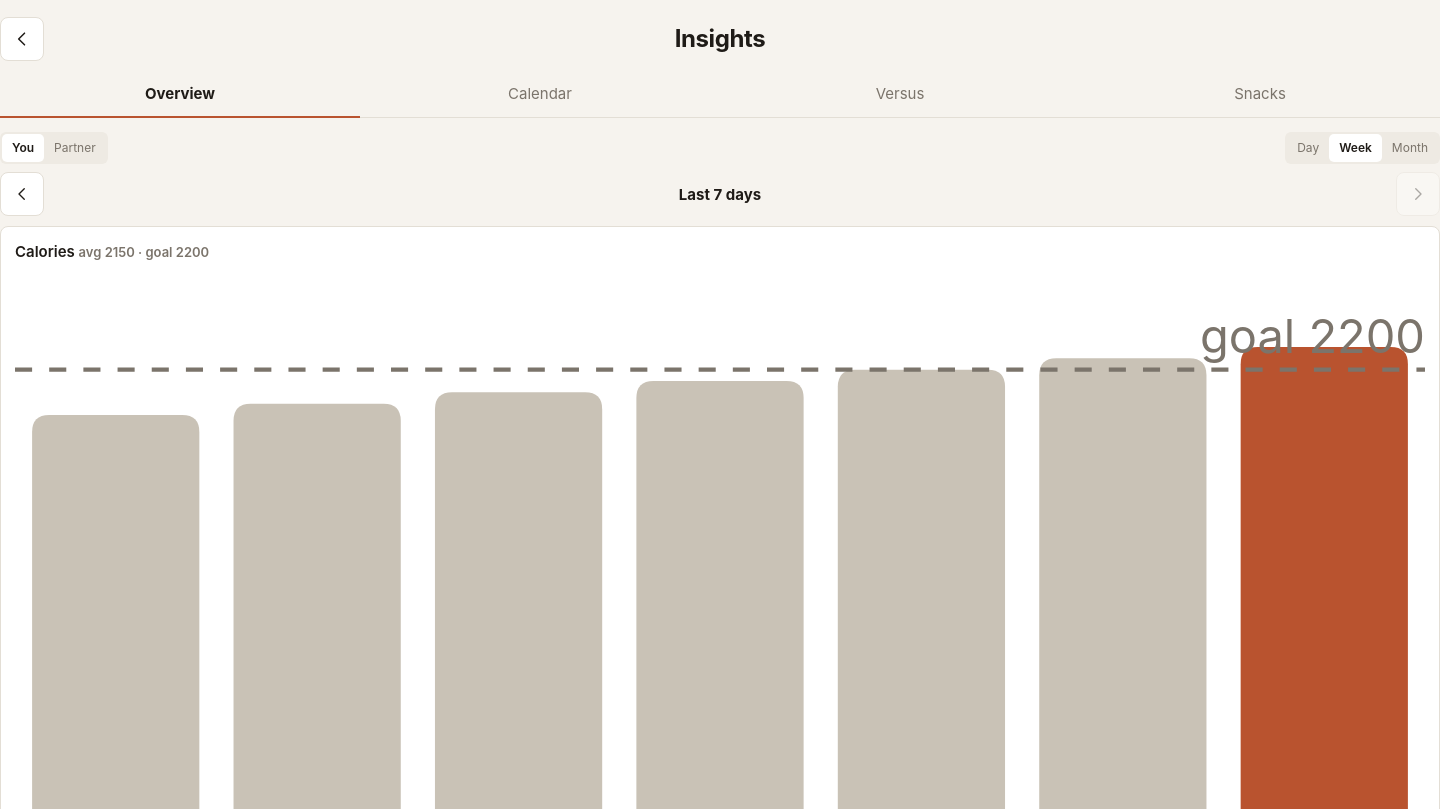
Test: InsightsPage › overview shows calories, macro split, fiber and top rated
Expected: the text "avg 2150 · goal 2200" is shown, x1=79 y1=244 x2=209 y2=260
What coordinates should you click on to do the following:
click the button "Day"
I would click on:
 (1308, 148)
Its box is x1=1287 y1=134 x2=1329 y2=162.
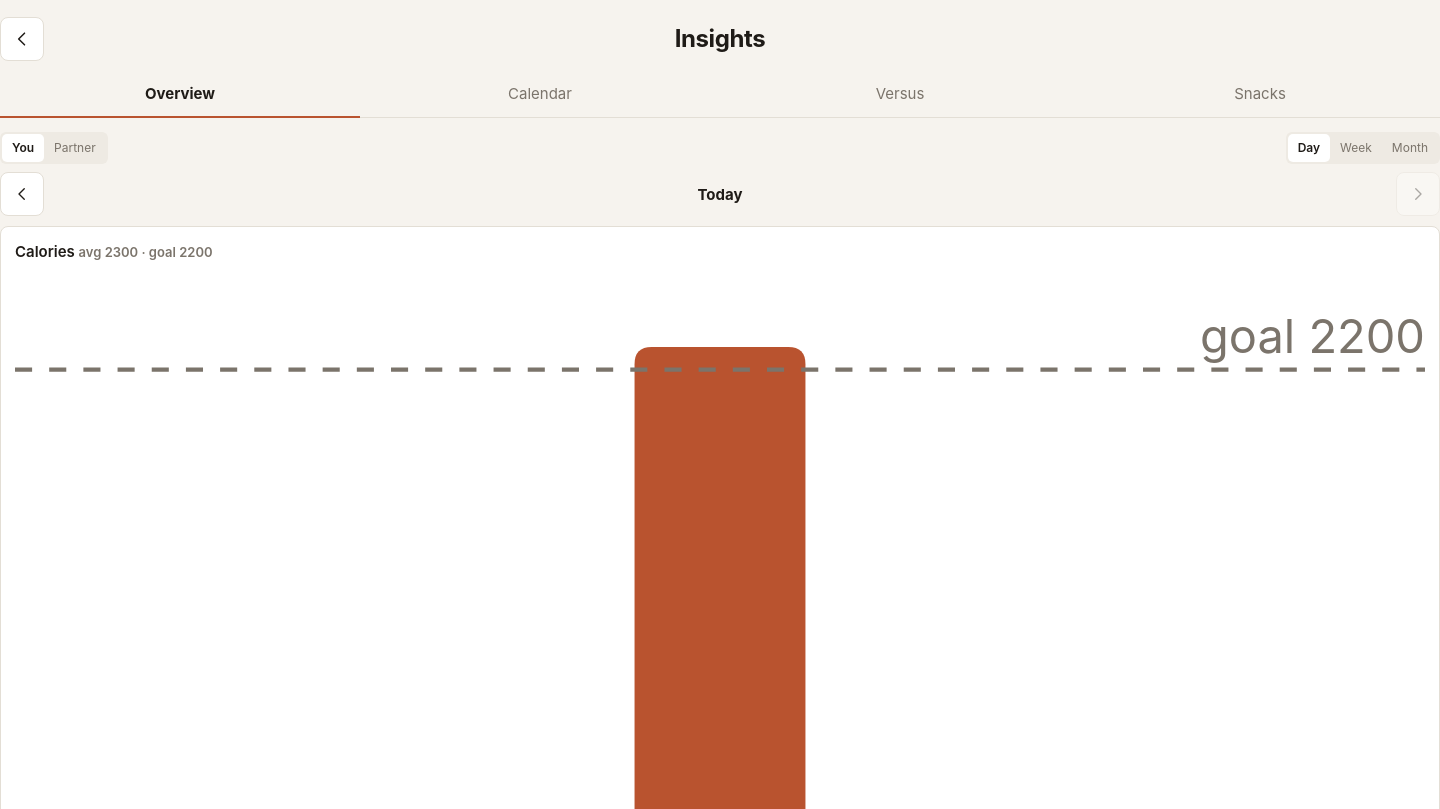
What coordinates should you click on to do the following:
click the button "Partner"
I would click on:
 (75, 148)
Its box is x1=44 y1=134 x2=106 y2=162.
(page scrolled)
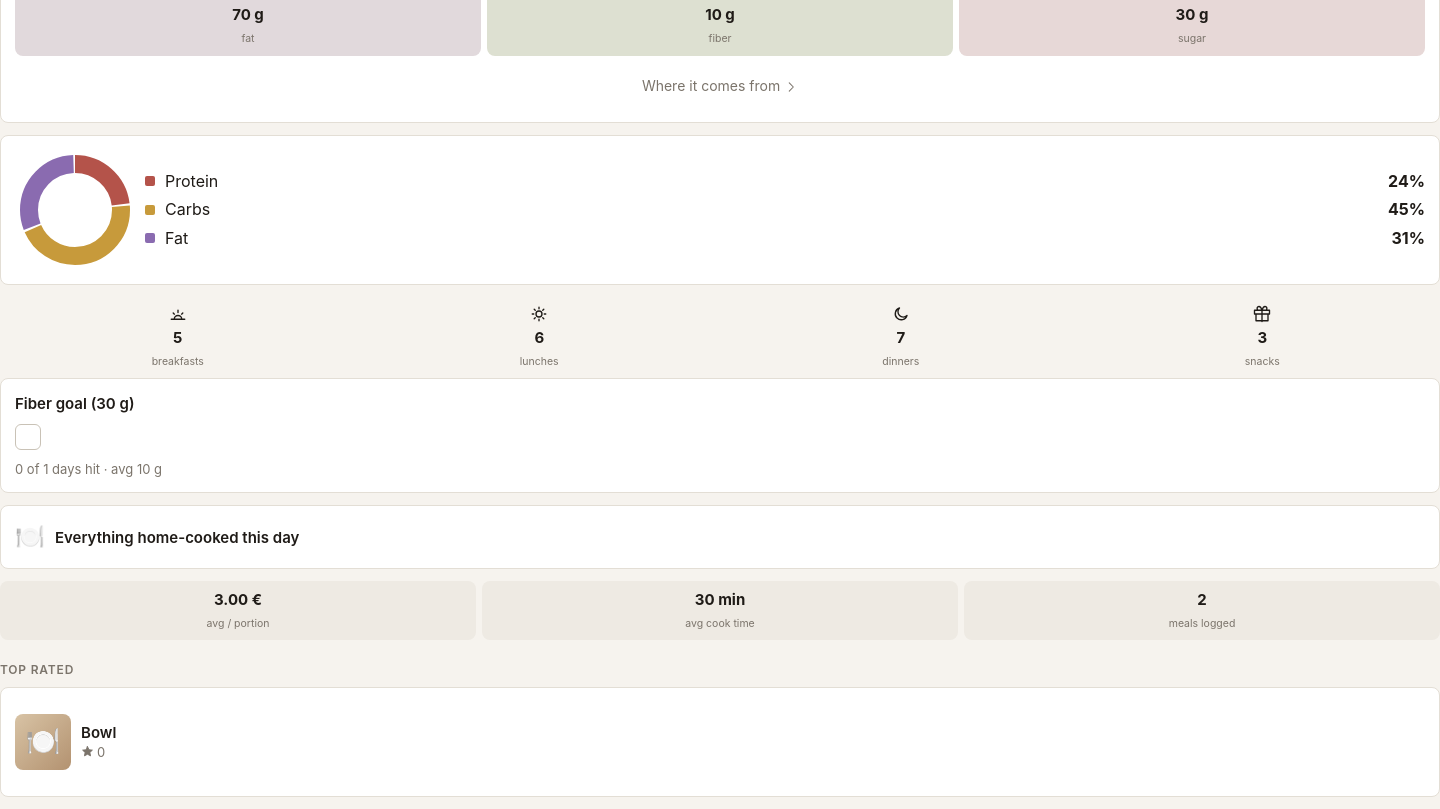
Now the text "0 of 1 days hit · avg 10 g" is shown, box x1=15 y1=461 x2=162 y2=477
